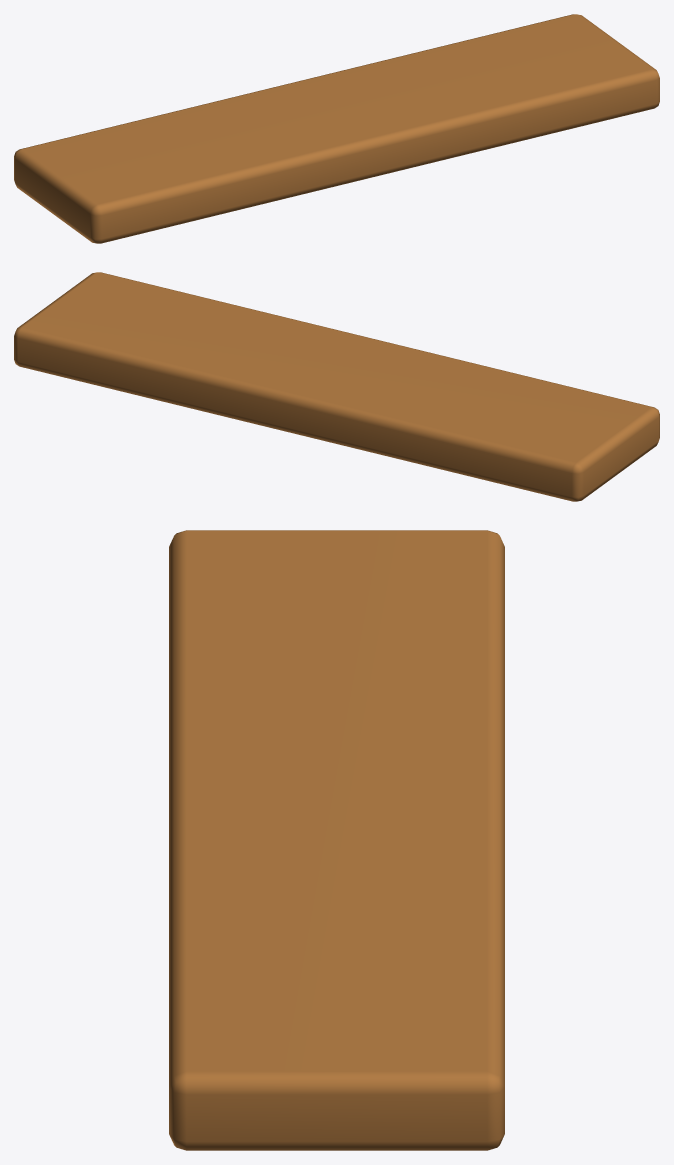
Rendered from SM_plank_floor_L.glb.
3 renders of one model, top to bottom at view 1: azimuth 30°, elevation 25°; view 2: azimuth 150°, elevation 25°; view 3: azimuth 270°, elevation 25°, orthographic. The views are drawn at different scales.
Parts seen in each view (by area): view 1: SM_plank_floor_L; view 2: SM_plank_floor_L; view 3: SM_plank_floor_L.
Boxes of the visible parts, left/top/right/bottom form: SM_plank_floor_L: left=14, top=14, right=659, bottom=243; SM_plank_floor_L: left=14, top=272, right=659, bottom=501; SM_plank_floor_L: left=169, top=530, right=504, bottom=1150.
Bounding box in the file's own units: 1.49 × 0.0984 × 0.3805.
1 material, 1 textured.
